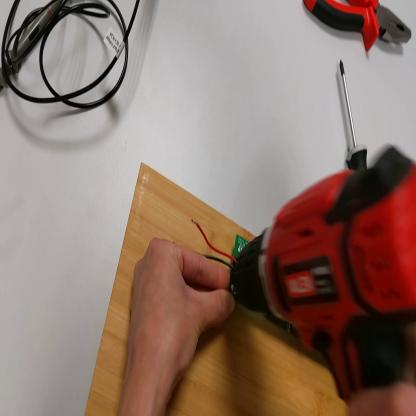electric screwdriver: (232, 143, 416, 399)
hand: (126, 239, 233, 409), (334, 324, 416, 415)
high voltage board: (193, 217, 251, 265)
oscilloscope probe tip: (2, 1, 64, 92)
pliers: (304, 1, 413, 56)
screwdriver-: (340, 60, 369, 169)
working area: (85, 161, 340, 416)
